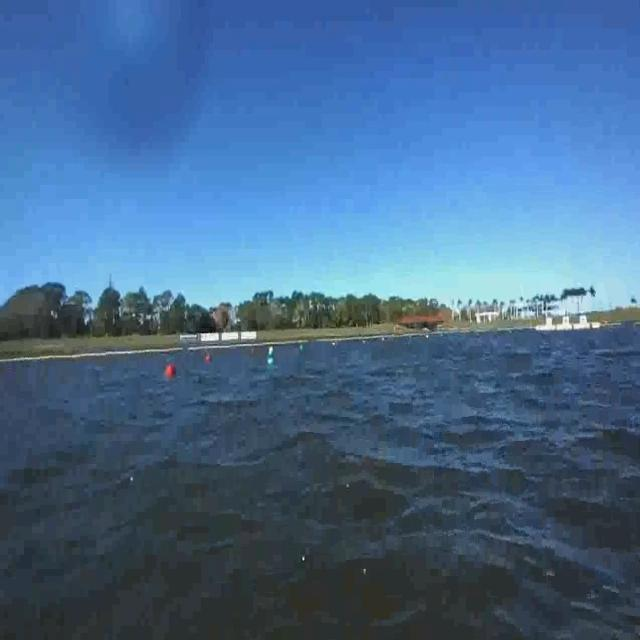green-buoy: (263, 353, 276, 372)
red-buoy: (167, 363, 176, 378)
